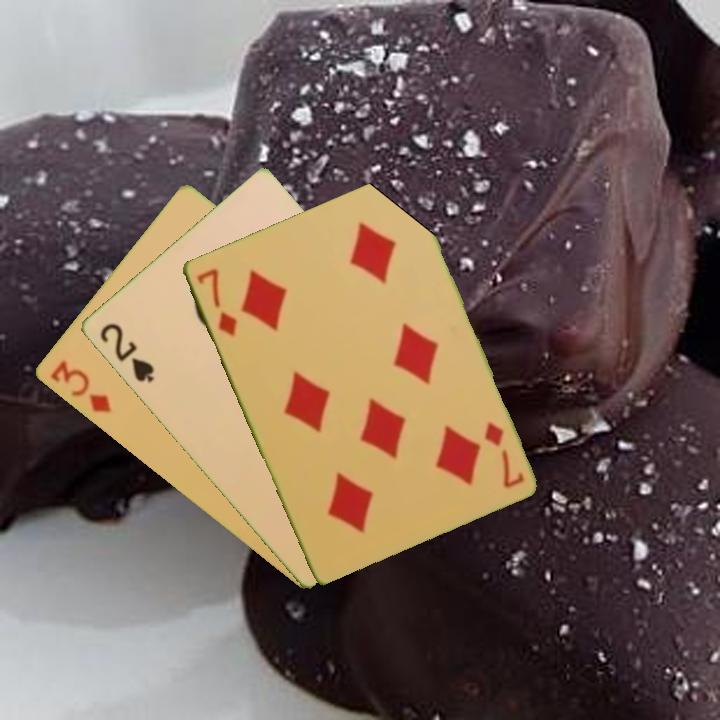2s: (95, 319, 156, 386)
3d: (46, 356, 114, 416)
7d: (192, 264, 240, 339), (480, 417, 527, 491)
